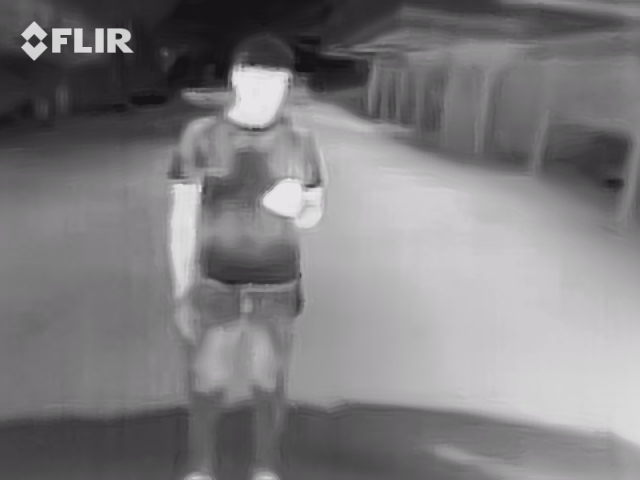head: (224, 32, 293, 125)
